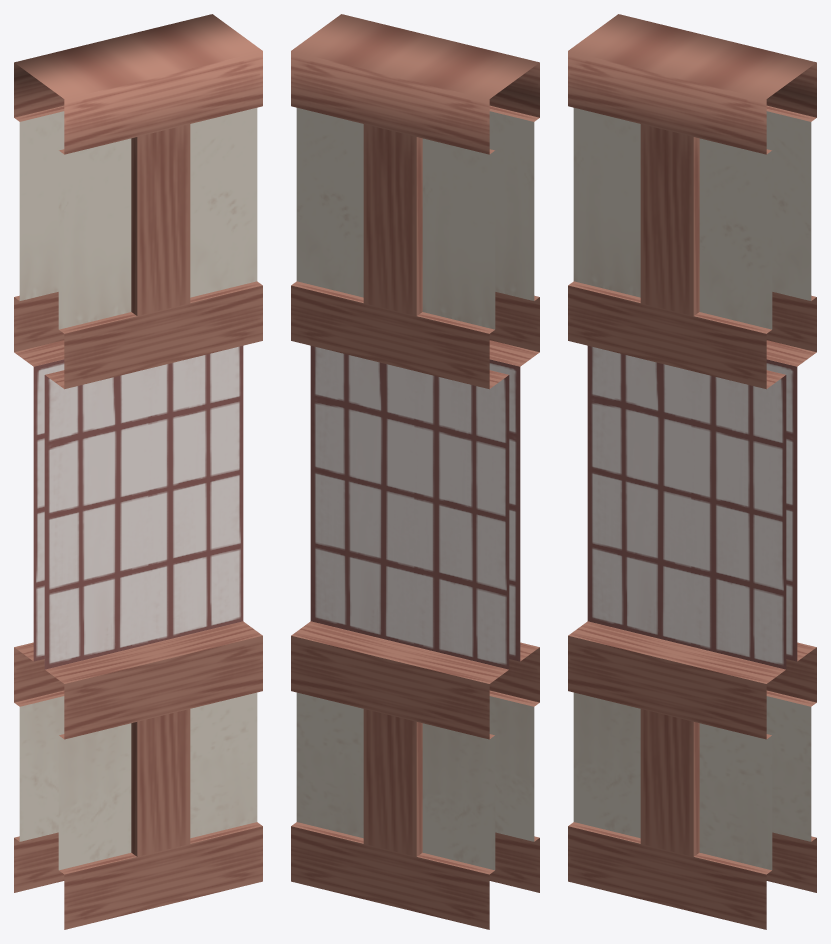
The model's file is paret_finestra_centre.fbx.
3 renders of one model, left to right at view 1: azimuth 30°, elevation 25°; view 2: azimuth 150°, elevation 25°; view 3: azimuth 330°, elevation 25°, orthographic.
Visible parts, largest first — view 1: Pared_Ventana_Centro; view 2: Pared_Ventana_Centro; view 3: Pared_Ventana_Centro.
Boxes of the visible parts, x1,y1,x2,y2 form: Pared_Ventana_Centro: [14, 14, 262, 929]; Pared_Ventana_Centro: [291, 14, 539, 929]; Pared_Ventana_Centro: [568, 14, 816, 929].
Size of the model in its own units: 100 by 400 by 44.
